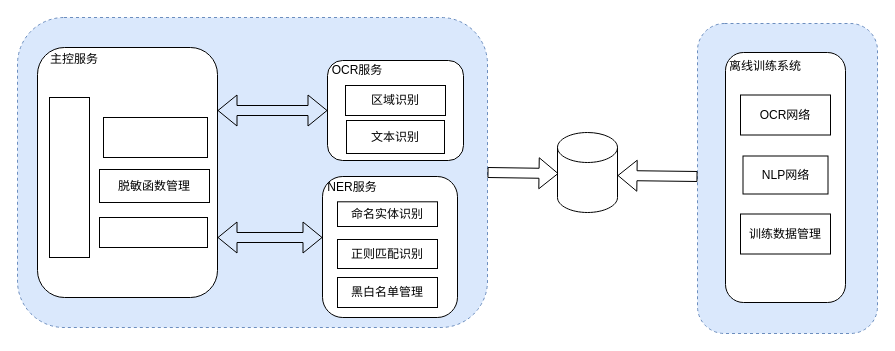
Some shapes in this 895 by 351 pixel diagram are drawn without their labels. Here are the shapes that lost their labels. From the top down, the box of each, then its label:
(102, 116, 208, 158): 敏感实体定义管理
(48, 96, 90, 258): REST API
(556, 132, 618, 212): 模型
(98, 216, 208, 248): 脱敏执行引擎
